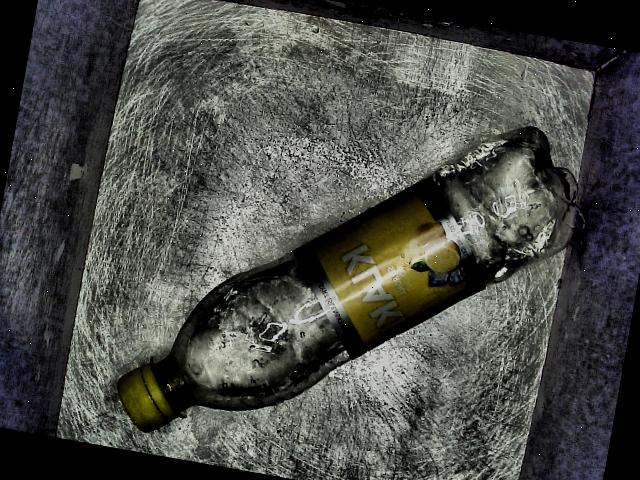Bottles: (86, 52, 603, 480)
